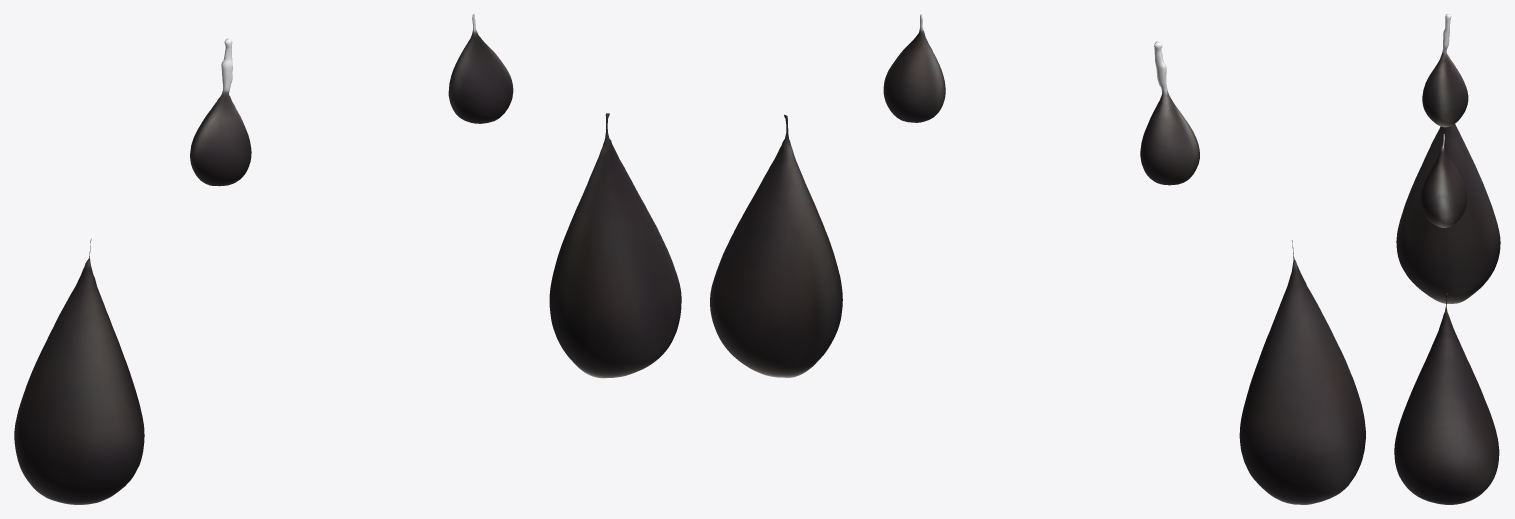
The model's file is black_tears1glb.glb.
3 renders of one model, left to right at view 1: azimuth 30°, elevation 25°; view 2: azimuth 150°, elevation 25°; view 3: azimuth 270°, elevation 25°, orthographic. The views are drawn at different scales.
Visible parts, largest first — view 1: lagrange_node; view 2: lagrange_node; view 3: lagrange_node.
Part boxes in pixels (x1,y1,x2,y2): lagrange_node: [14, 14, 681, 504]; lagrange_node: [710, 14, 1365, 504]; lagrange_node: [1394, 14, 1500, 504].
Bounding box in the file's own units: 1.79 × 1.13 × 0.3179.
Materials: 1 (1 with a texture image).
